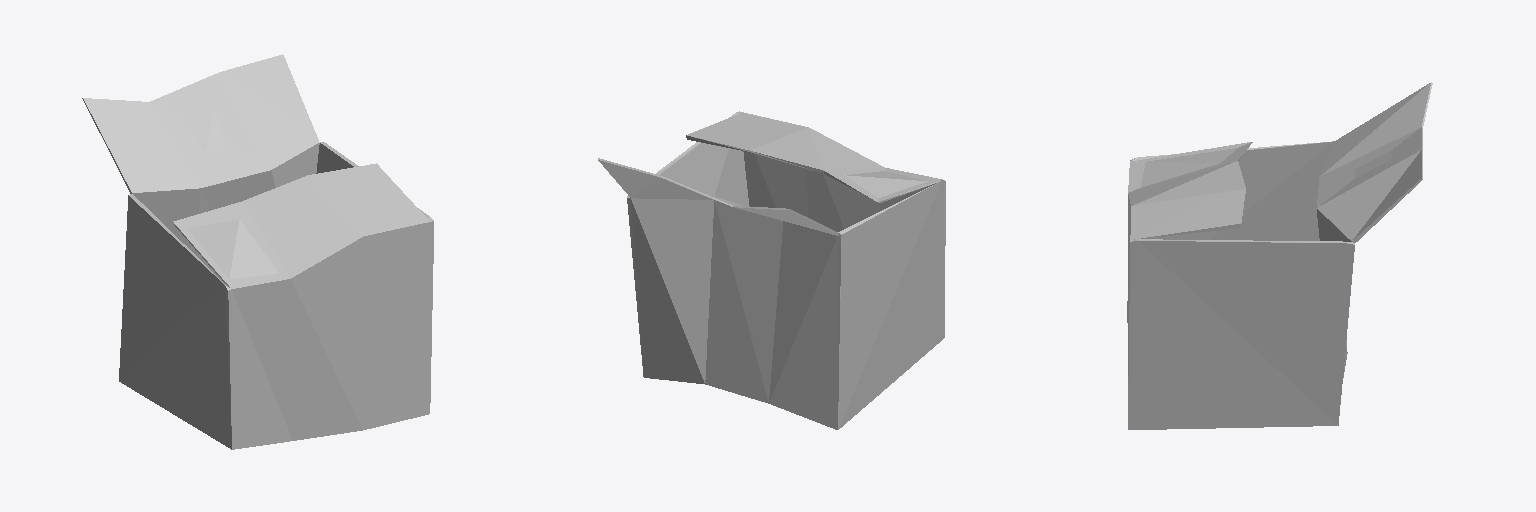
3 renders of one model, left to right at view 1: azimuth 30°, elevation 25°; view 2: azimuth 150°, elevation 25°; view 3: azimuth 270°, elevation 25°, orthographic.
Parts seen in each view (by area): view 1: Cardboard_02_Mesh.009; view 2: Cardboard_02_Mesh.009; view 3: Cardboard_02_Mesh.009.
Part boxes in pixels (bbox=[...]): Cardboard_02_Mesh.009: bbox=[82, 54, 433, 449]; Cardboard_02_Mesh.009: bbox=[598, 111, 945, 429]; Cardboard_02_Mesh.009: bbox=[1127, 82, 1432, 429].
Size of the model in its own units: 0.16 by 0.1865 by 0.2044.